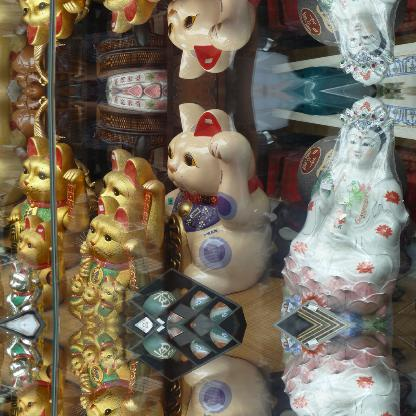Cat: (4, 101, 272, 324), (4, 325, 272, 415), (4, 0, 272, 81)
